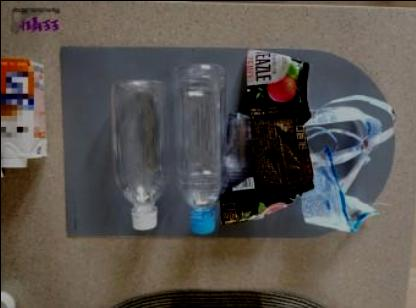Plastic Bottle: (109, 76, 160, 230), (179, 61, 221, 233)
